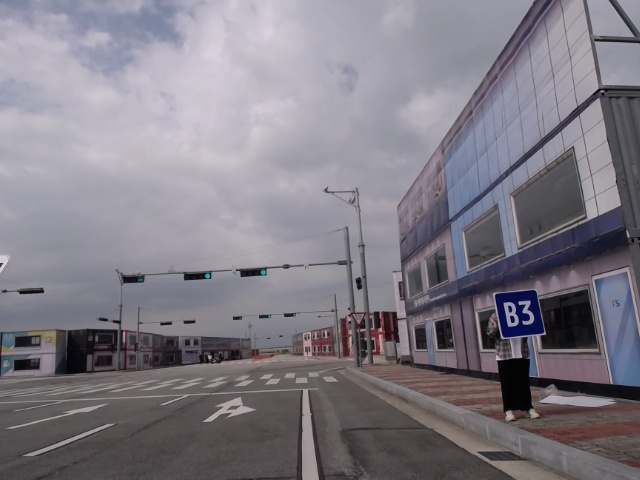delivery_b3: (491, 288, 546, 340)
straight_green_4: (182, 271, 214, 283), (239, 268, 270, 278), (282, 311, 299, 318), (257, 314, 273, 319)
